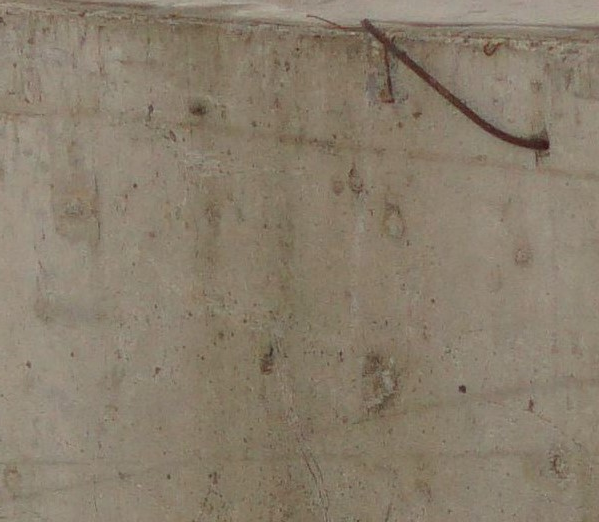Exposed reinforcement: (359, 18, 550, 151)
